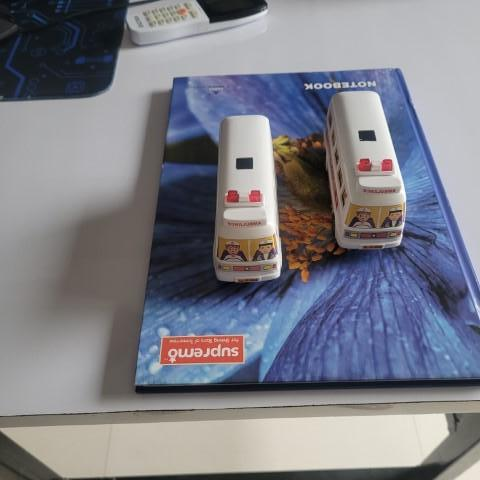ambulance: (321, 85, 409, 254), (210, 108, 288, 288)
